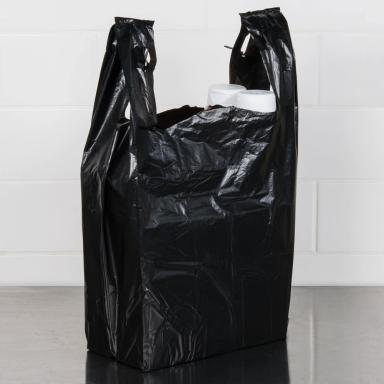plasticbag: (80, 5, 304, 384)
